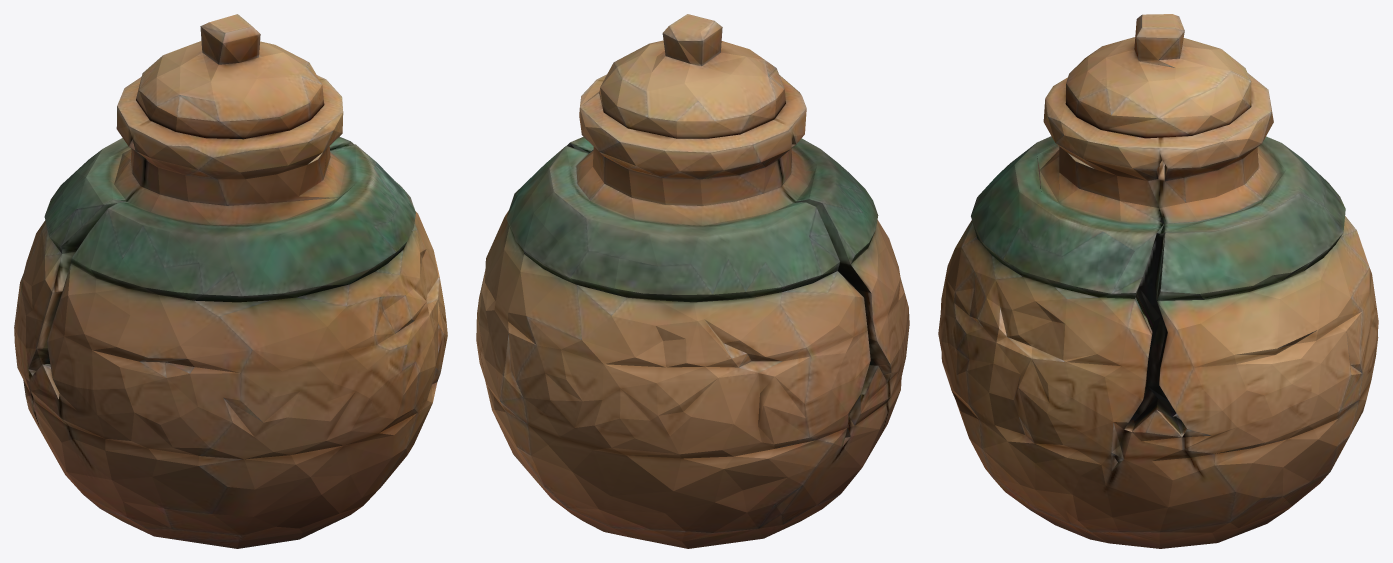
The model's file is urn_crypt.glb.
The picture shows the model from 3 angles, left to right: view 1: azimuth 30°, elevation 25°; view 2: azimuth 150°, elevation 25°; view 3: azimuth 270°, elevation 25°; orthographic projection.
Parts seen in each view (by area): view 1: tripo_node_7c119d6c-9a37-4a83-ac21-e1479de232a8.001; view 2: tripo_node_7c119d6c-9a37-4a83-ac21-e1479de232a8.001; view 3: tripo_node_7c119d6c-9a37-4a83-ac21-e1479de232a8.001.
Boxes of the visible parts, left/top/right/bottom form: tripo_node_7c119d6c-9a37-4a83-ac21-e1479de232a8.001: left=14, top=14, right=447, bottom=548; tripo_node_7c119d6c-9a37-4a83-ac21-e1479de232a8.001: left=476, top=14, right=909, bottom=548; tripo_node_7c119d6c-9a37-4a83-ac21-e1479de232a8.001: left=938, top=14, right=1378, bottom=548.
Size of the model in its own units: 0.824 by 0.9988 by 0.8312.
Materials: 1 (1 with a texture image).
